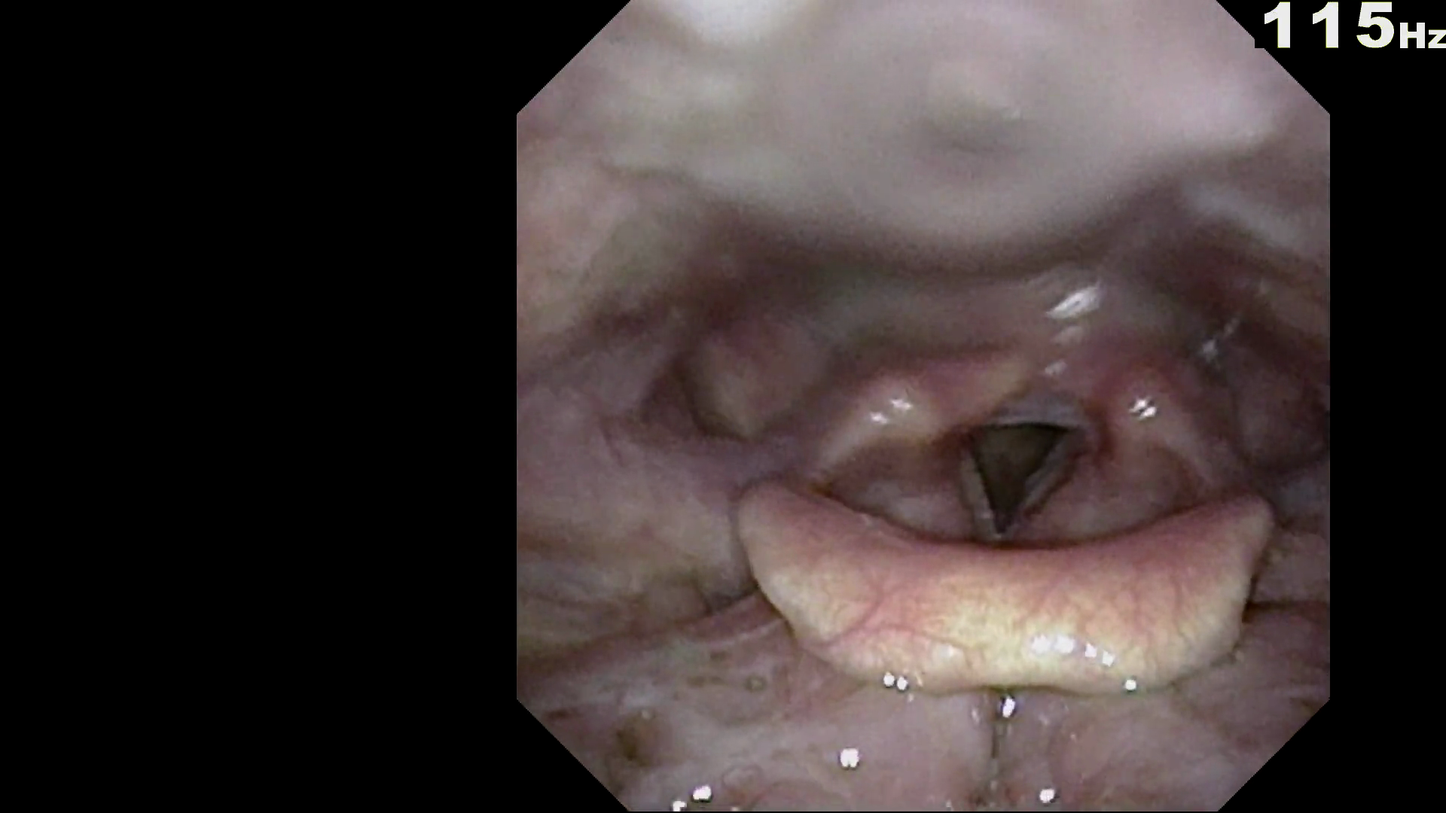epiglottis: (683, 515, 1292, 705)
trachea: (958, 428, 1071, 556)
